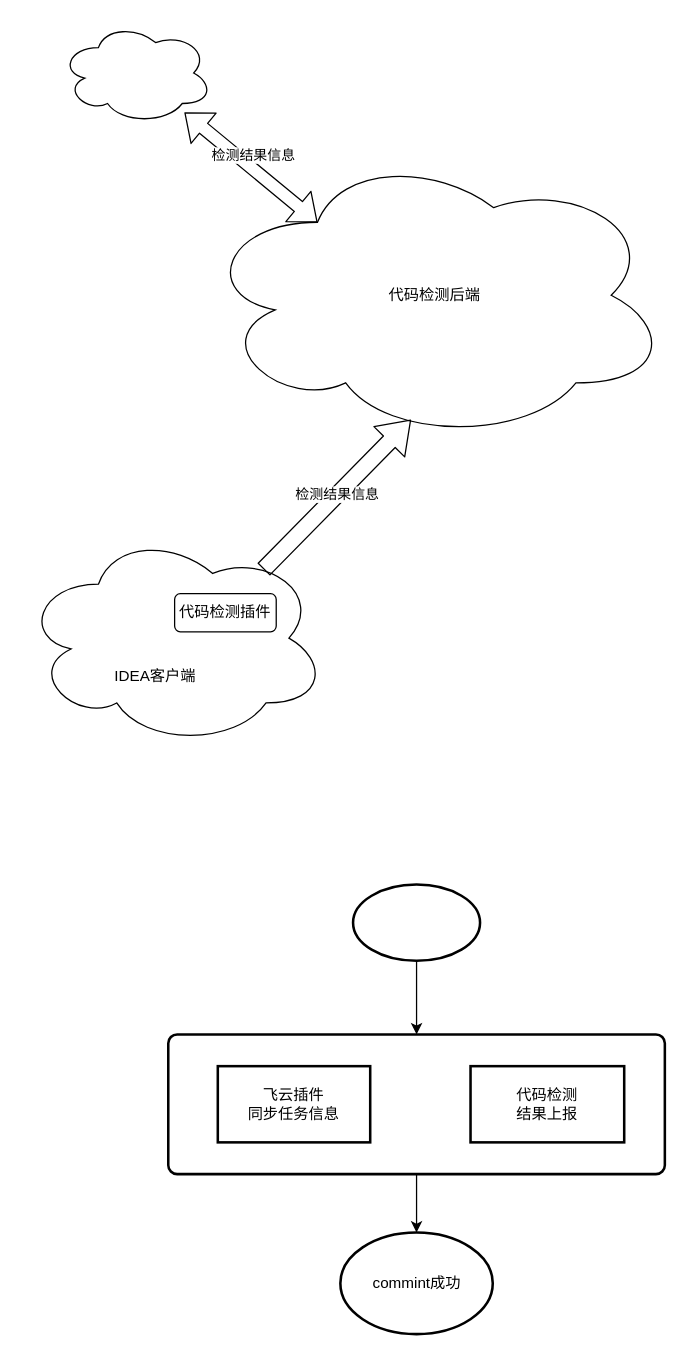
Some shapes in this 692 by 1358 pixel diagram are drawn without their labels. Here are the shapes that lost their labels. From the top down, the box of each, then its label:
(59, 21, 213, 124): 飞云系统
(351, 883, 481, 961): 开始commit
